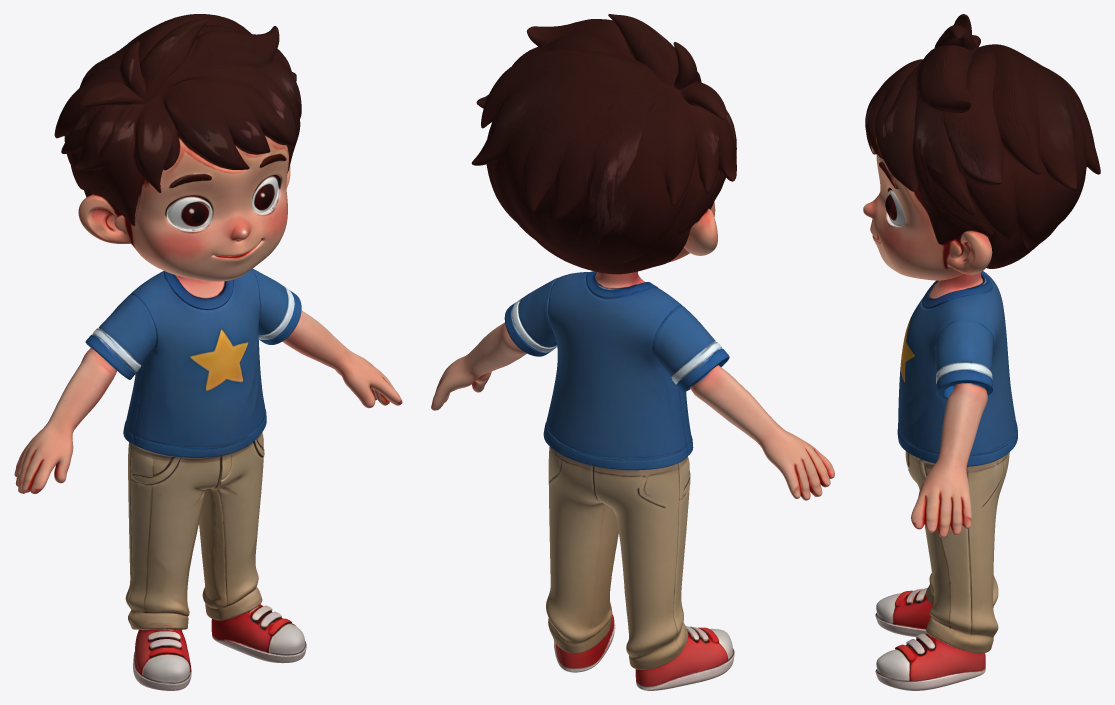
The model's file is base_basic_pbr.glb.
3 views of the same model, side by side, from view 1: azimuth 30°, elevation 25°; view 2: azimuth 150°, elevation 25°; view 3: azimuth 270°, elevation 25° (orthographic). The views are drawn at different scales.
Parts seen in each view (by area): view 1: model; view 2: model; view 3: model.
Boxes of the visible parts, left/top/right/bottom form: model: left=14, top=14, right=402, bottom=690; model: left=431, top=14, right=834, bottom=690; model: left=863, top=14, right=1100, bottom=690.
Size of the model in its own units: 1.19 by 1.9 by 0.6573.
1 material, 1 textured.
